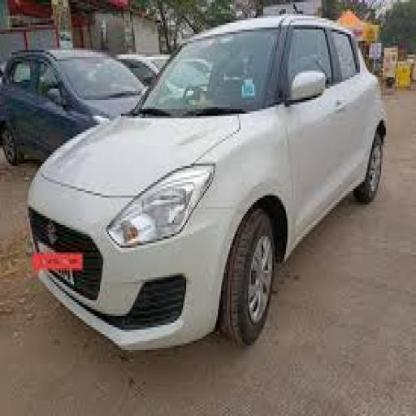car: (20, 9, 392, 362)
